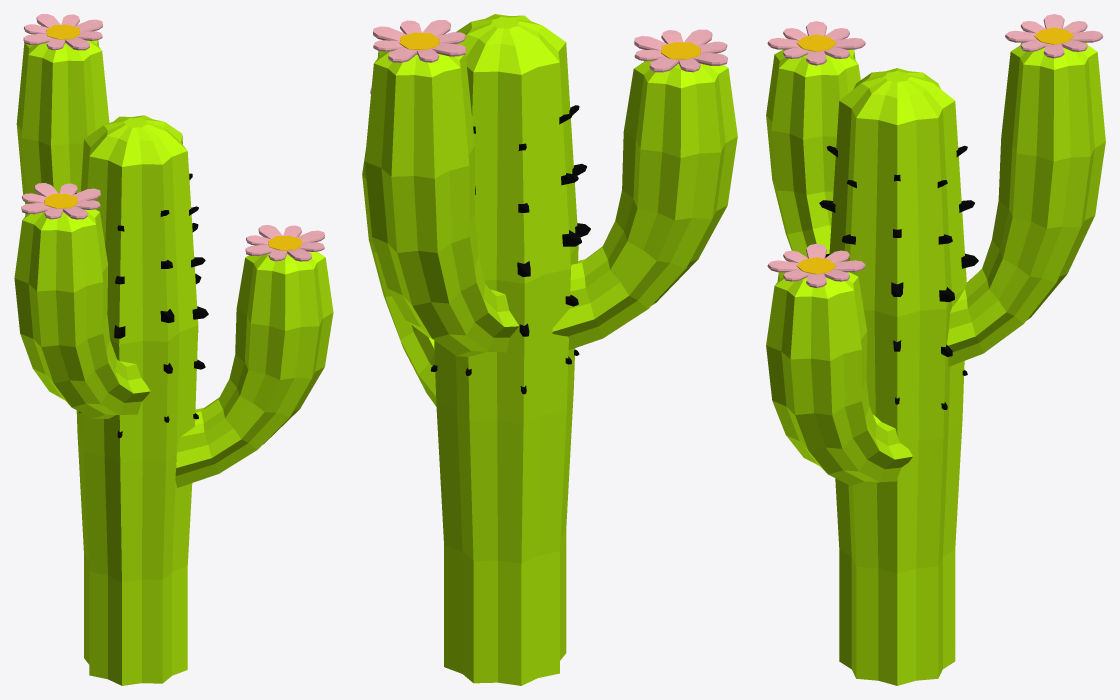
The model's file is Cardon02_03Brazos_Flor_Rosada.fbx.
3 renders of one model, left to right at view 1: azimuth 30°, elevation 25°; view 2: azimuth 150°, elevation 25°; view 3: azimuth 270°, elevation 25°, orthographic. The views are drawn at different scales.
Parts seen in each view (by area): view 1: Cactus, Flor_Rosada, Espinas; view 2: Cactus, Flor_Rosada, Espinas; view 3: Cactus, Flor_Rosada, Espinas.
Part boxes in pixels (x1,y1,x2,y2): Cactus: (14,40,333,685); Flor_Rosada: (21,14,324,261); Espinas: (75,173,208,438); Cactus: (362,14,737,685); Flor_Rosada: (370,20,727,93); Espinas: (430,105,590,394); Cactus: (766,42,1105,685); Flor_Rosada: (767,14,1103,287); Espinas: (819,145,978,409).
Bounding box in the file's own units: 124 × 226 × 111.
